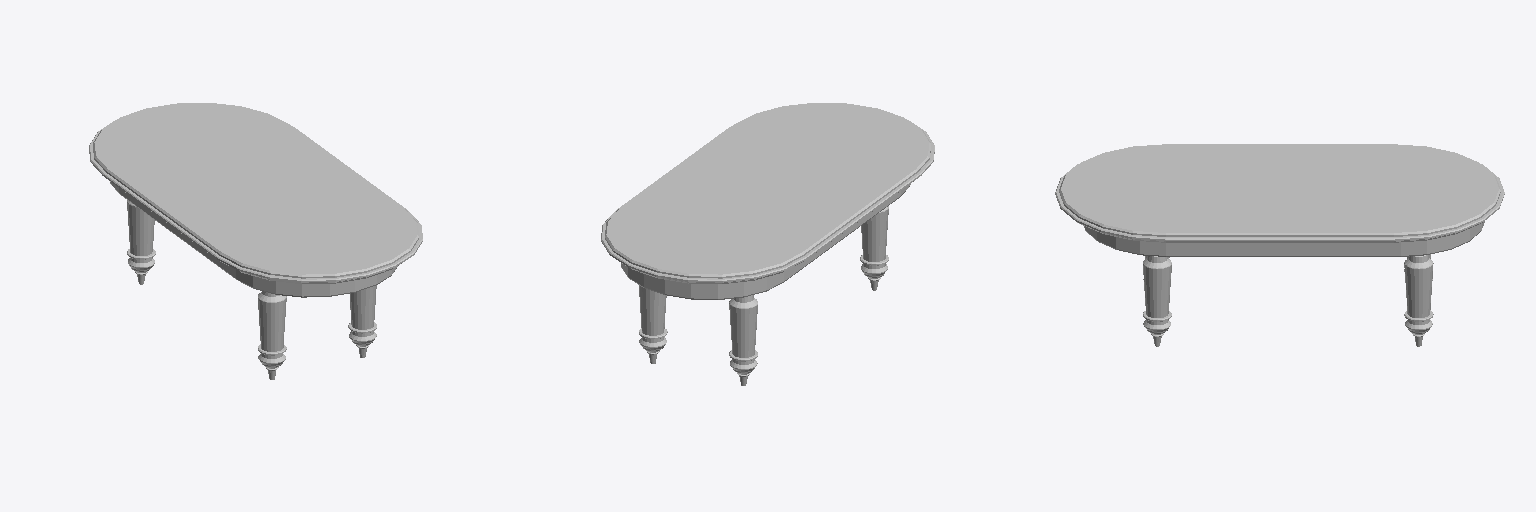
Rendered from dining room table.obj.
3 views of the same model, side by side, from view 1: azimuth 30°, elevation 25°; view 2: azimuth 150°, elevation 25°; view 3: azimuth 270°, elevation 25° (orthographic).
Visible parts, largest first — view 1: polySurface28; view 2: polySurface28; view 3: polySurface28.
Part boxes in pixels (left/top/right/bottom): polySurface28: left=89, top=103, right=422, bottom=379; polySurface28: left=601, top=103, right=934, bottom=385; polySurface28: left=1055, top=144, right=1504, bottom=346.
Bounding box in the file's own units: 118 × 78.99 × 239.